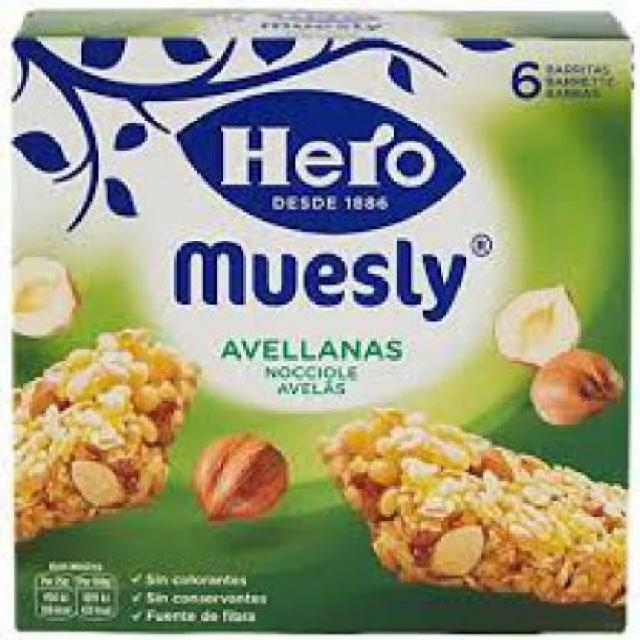Cereal bar: (9, 8, 632, 634)
